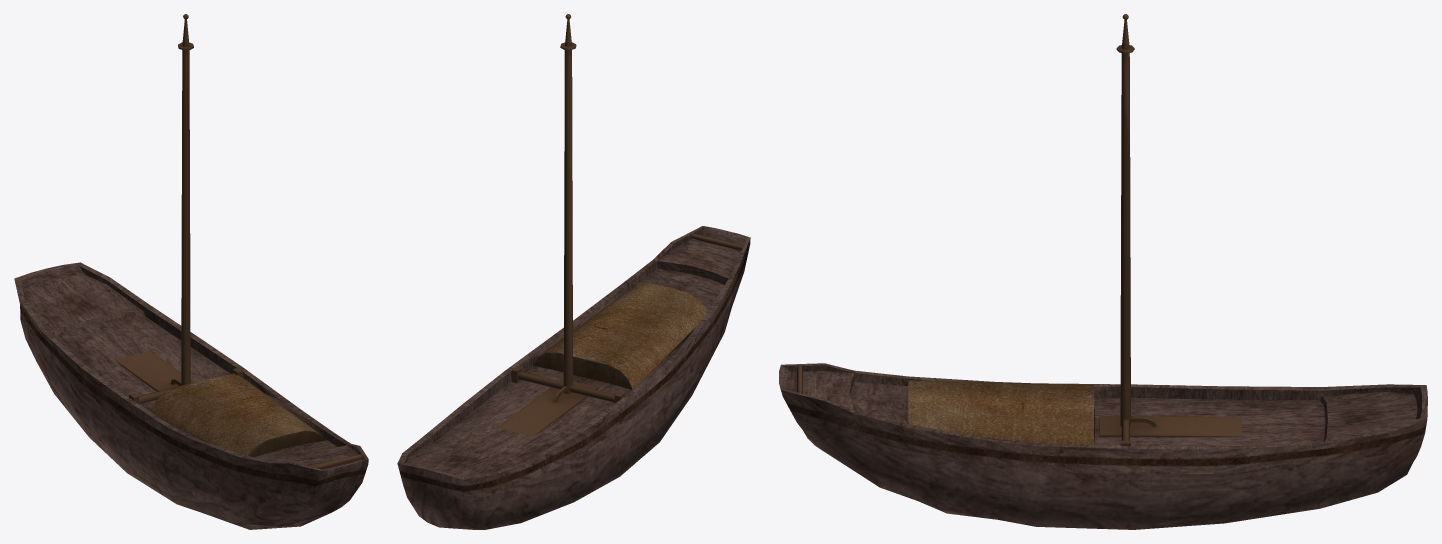
3 renders of one model, left to right at view 1: azimuth 30°, elevation 25°; view 2: azimuth 150°, elevation 25°; view 3: azimuth 270°, elevation 25°, orthographic. The views are drawn at different scales.
Visible parts, largest first — view 1: boat.007; view 2: boat.007; view 3: boat.007.
Boxes of the visible parts, x1,y1,x2,y2 form: boat.007: [14, 14, 368, 529]; boat.007: [397, 14, 750, 529]; boat.007: [779, 14, 1427, 529].
Size of the model in its own units: 171 by 609 by 719.
1 material, 1 textured.
